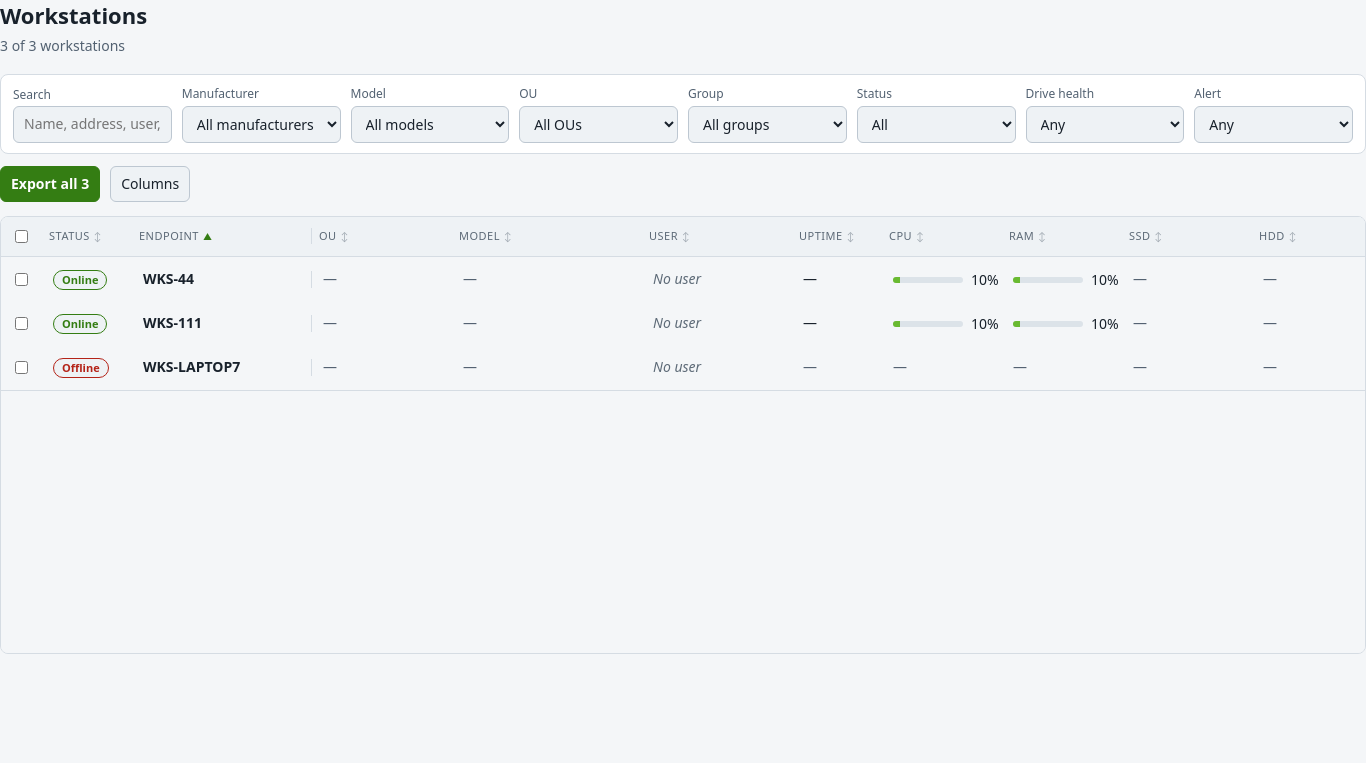
Scenario: list filters survive list -> workstation -> list › filters and sort land in the query string and come back with the Back button
In the field labelled "Search": (92, 124) [13,106,172,143], type "wks"
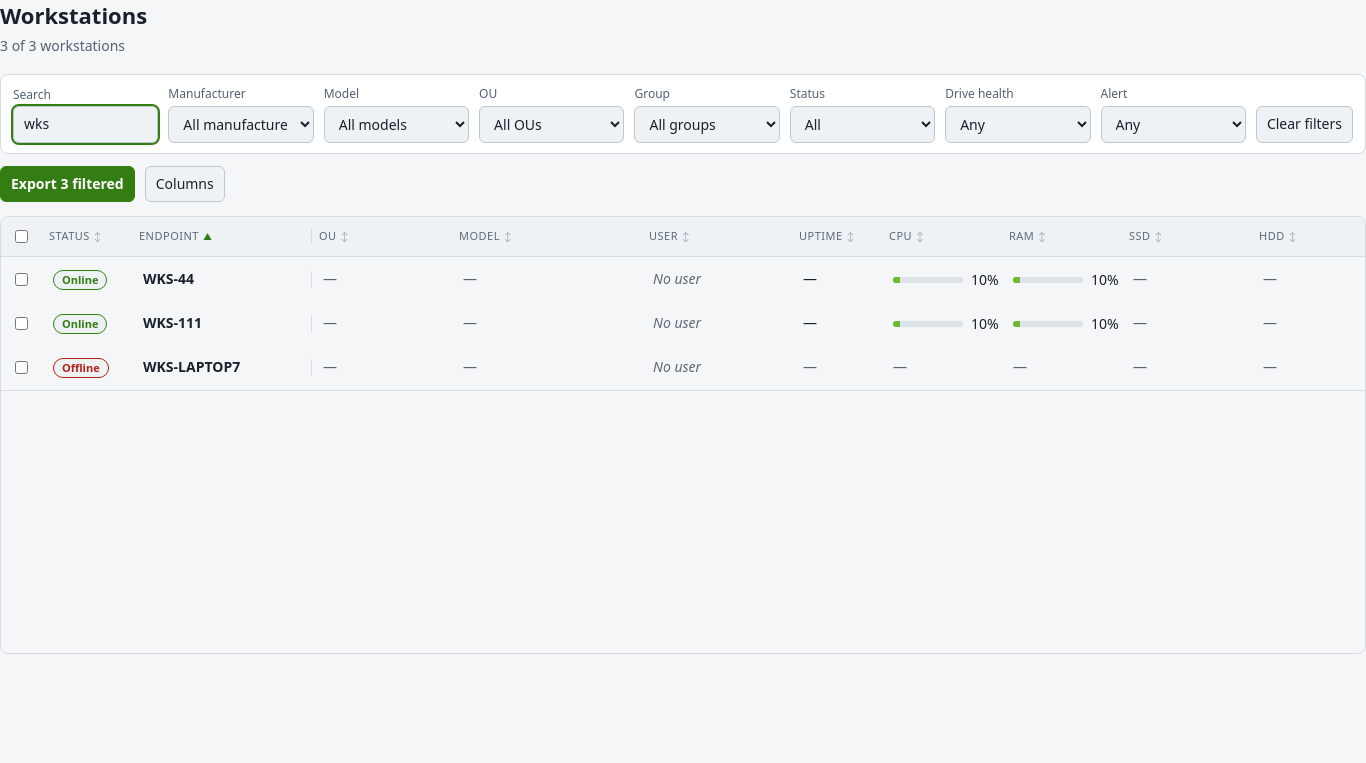
Select "Online" in the dropdown labelled "Status": (862, 124) [790,106,935,143]
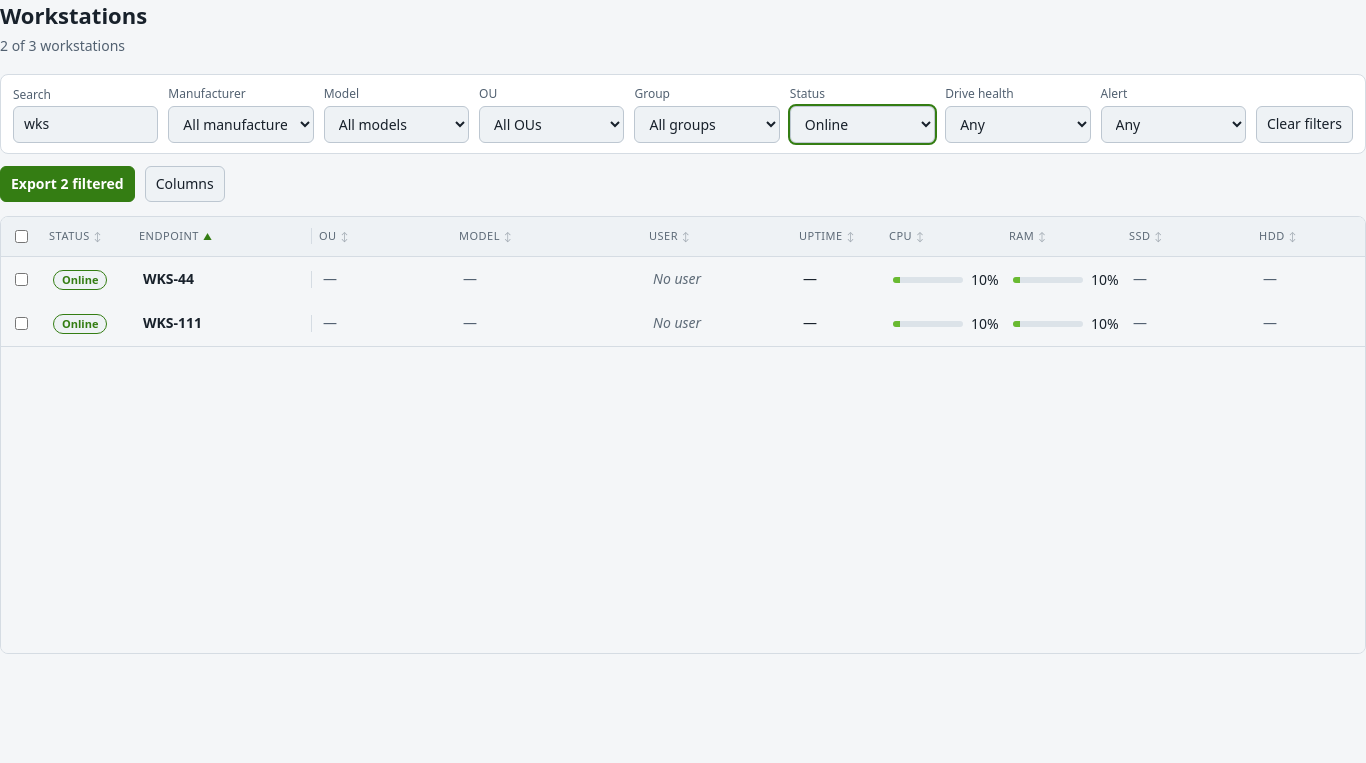
Click the button "Endpoint ▲": (176, 236) [139,228,213,244]
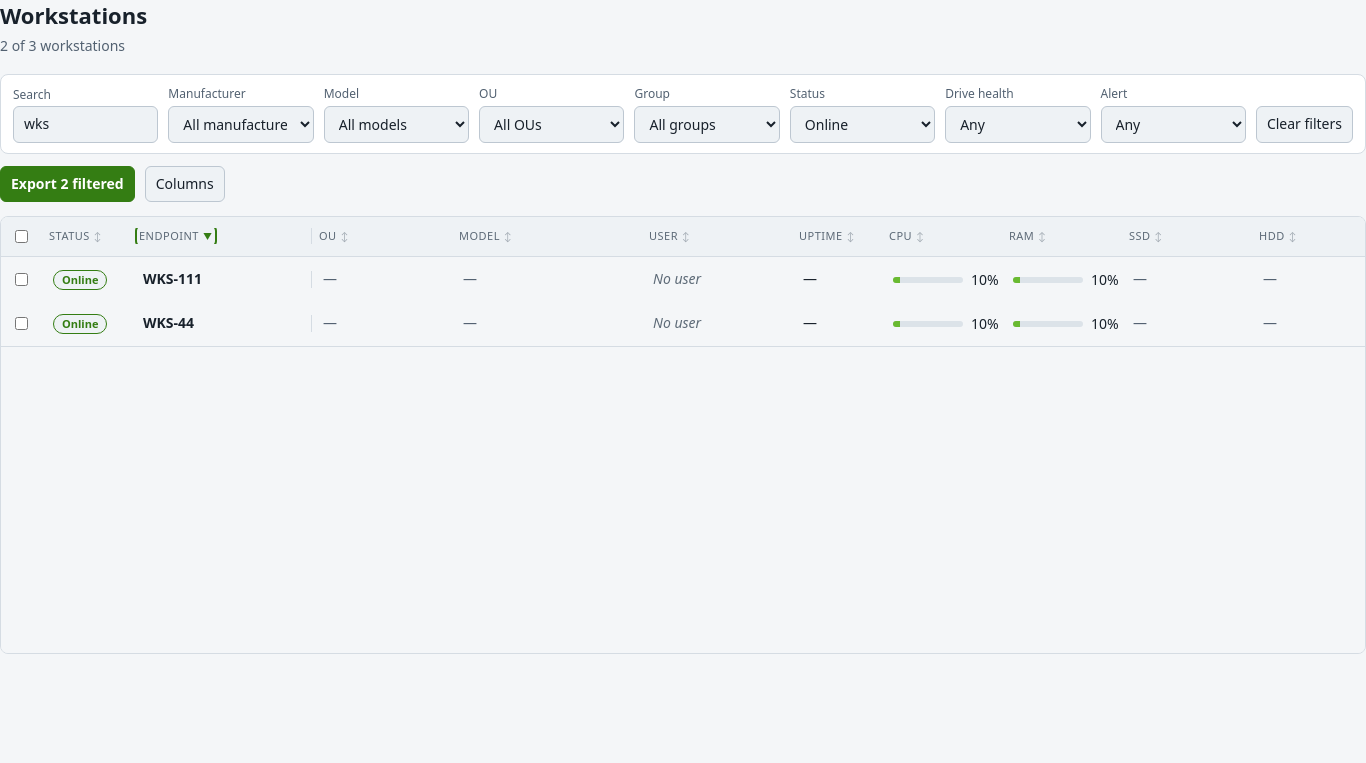
Check: the number of rows with test id "endpoint-row" is 2
Click the 1st row with test id "endpoint-row": (684, 280) [1,257,1365,303]
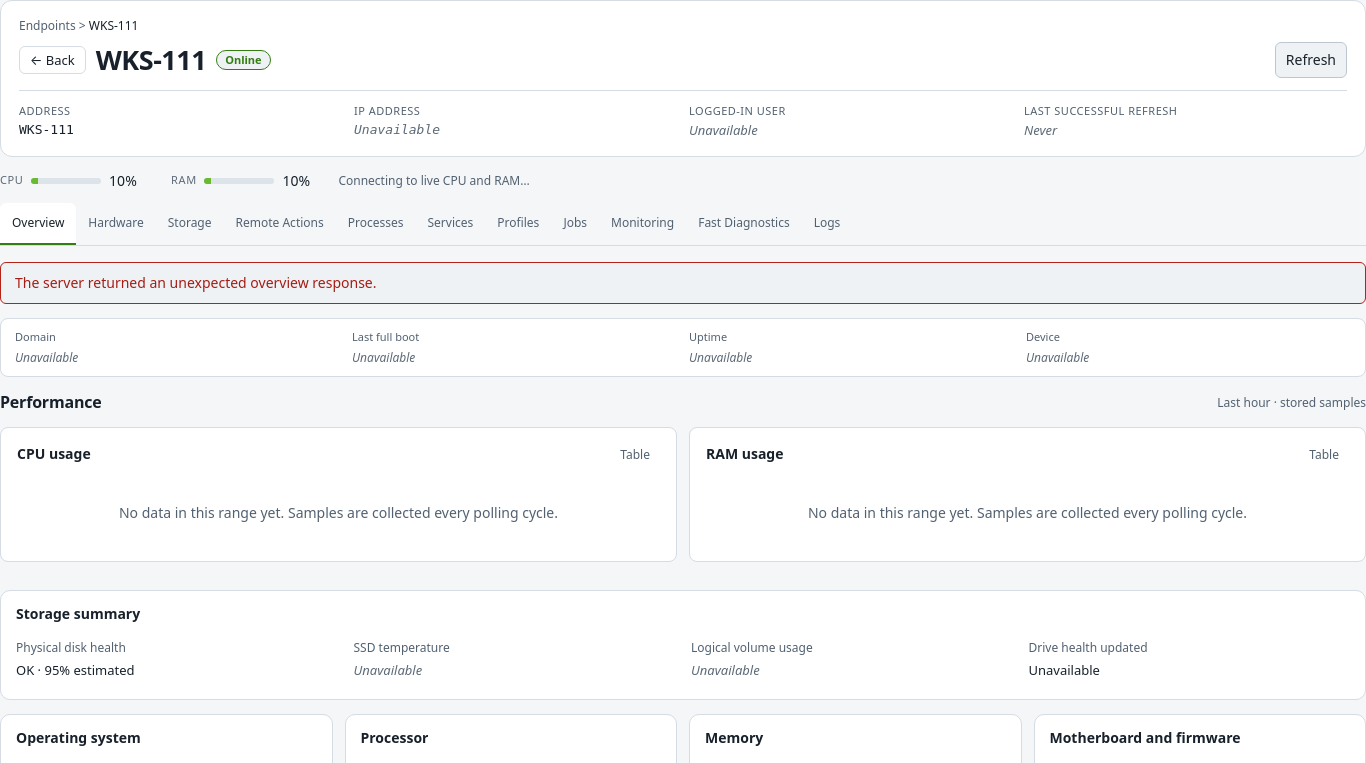
Check: the link with aria-label "Back to workstation list" is shown
Click the link with aria-label "Back to workstation list": (52, 60) [19,46,86,74]
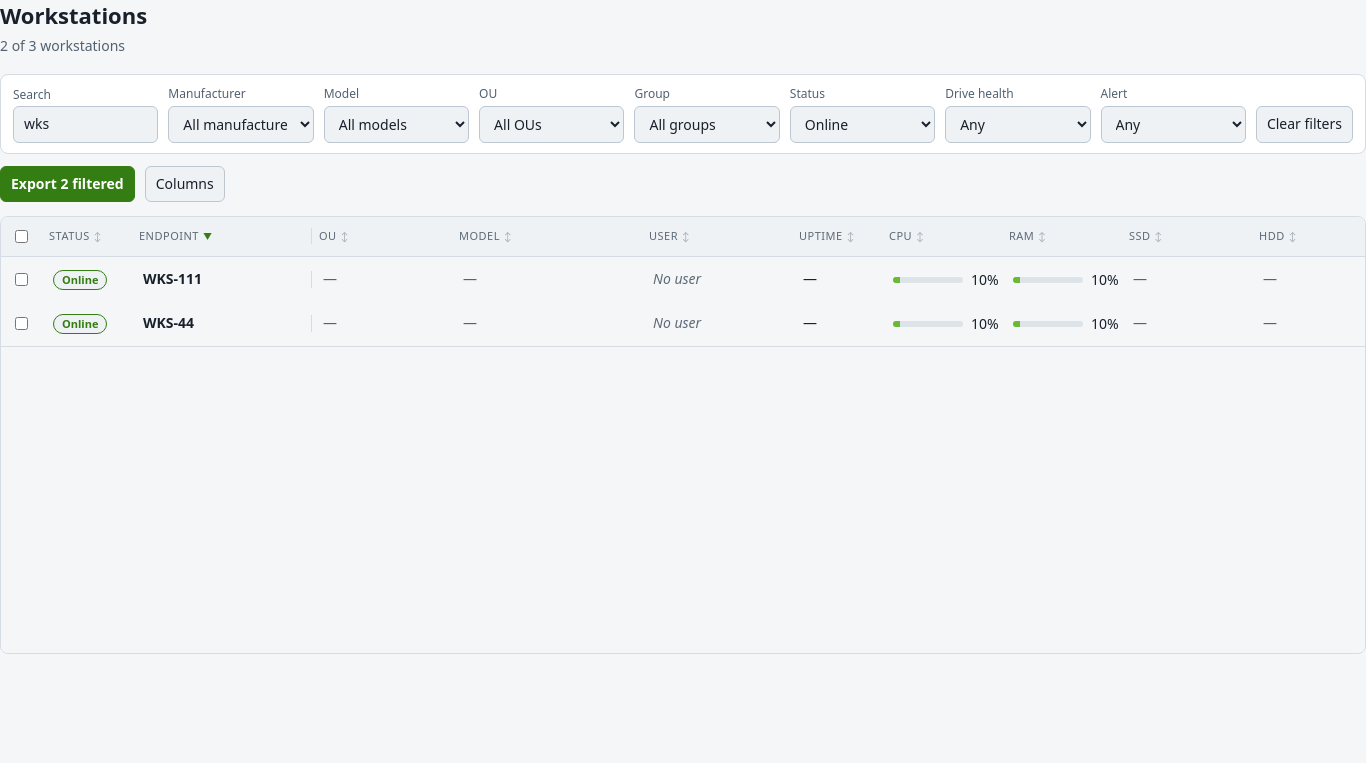
Check: the field labelled "Search" holds "wks", box [13,106,158,143]
Check: the dropdown labelled "Status" shows "Online", box [790,106,935,143]
Check: the number of rows with test id "endpoint-row" is 2, box [1,257,1365,303]; [1,301,1365,347]
